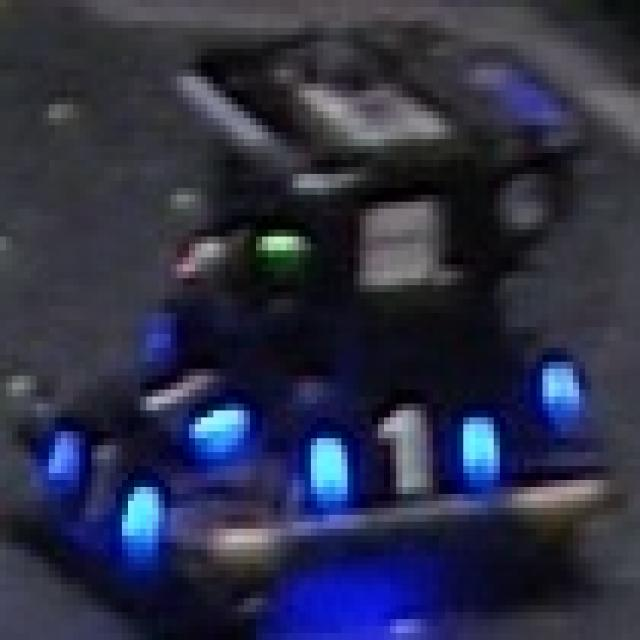B1: (283, 382, 509, 514), (30, 421, 177, 560), (101, 337, 253, 456)
